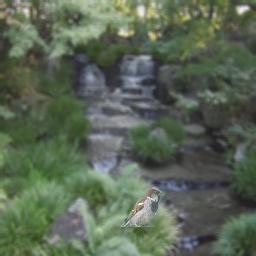Sparrow: (120, 187, 164, 227)
